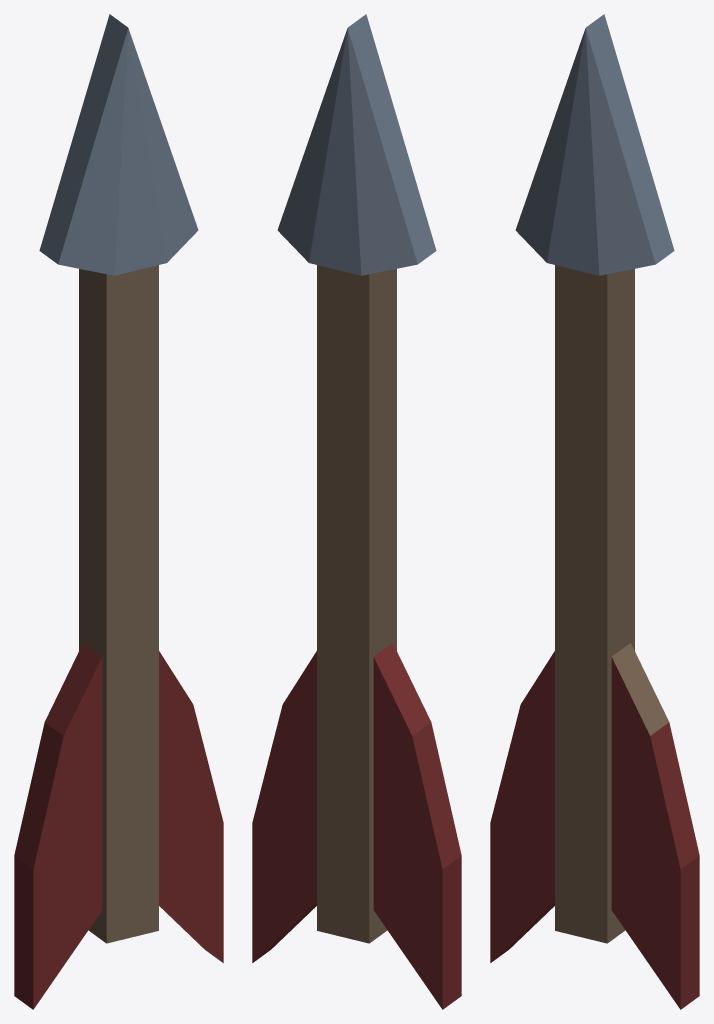
File: Arrow.fbx
The picture shows the model from 3 angles, left to right: view 1: azimuth 30°, elevation 25°; view 2: azimuth 150°, elevation 25°; view 3: azimuth 330°, elevation 25°; orthographic projection.
Parts seen in each view (by area): view 1: Cube; view 2: Cube; view 3: Cube.
Part boxes in pixels (x1,y1,x2,y2): Cube: (14, 14, 223, 1009); Cube: (252, 14, 461, 1009); Cube: (490, 14, 699, 1009).
Bounding box in the file's own units: 25.29 × 122 × 10.06.
